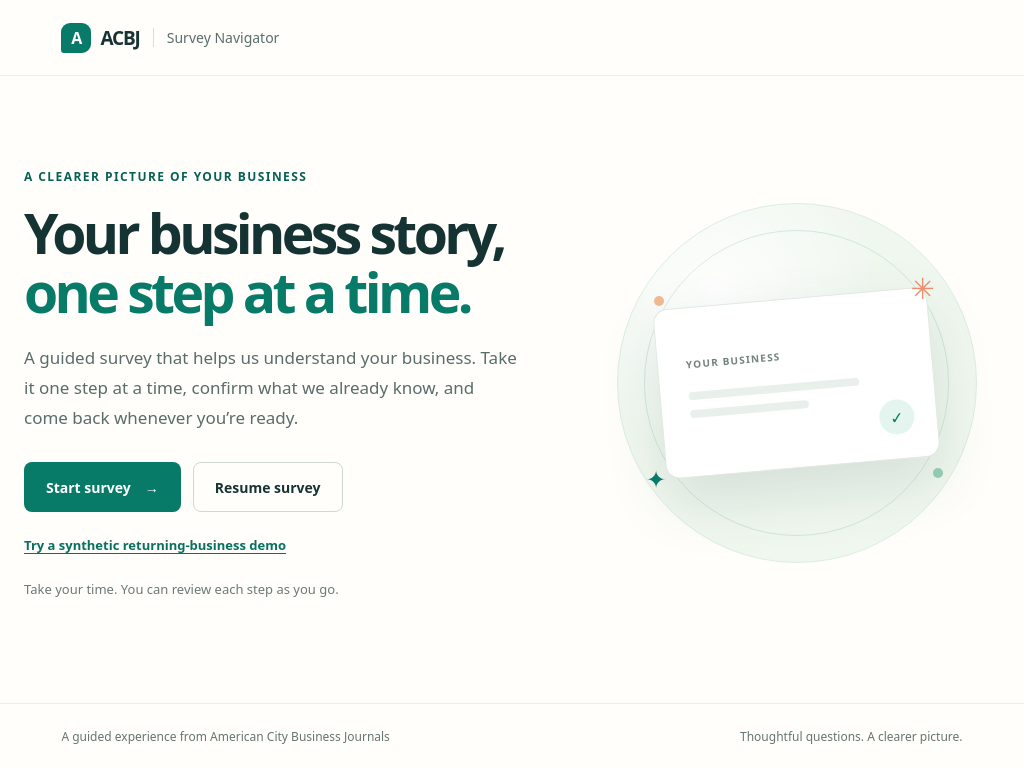
it: ACBJ Survey Navigator question flow › edits a review section and returns to review without losing other answers
Click the button "Resume survey" at (268, 487), box x1=193 y1=462 x2=343 y2=512
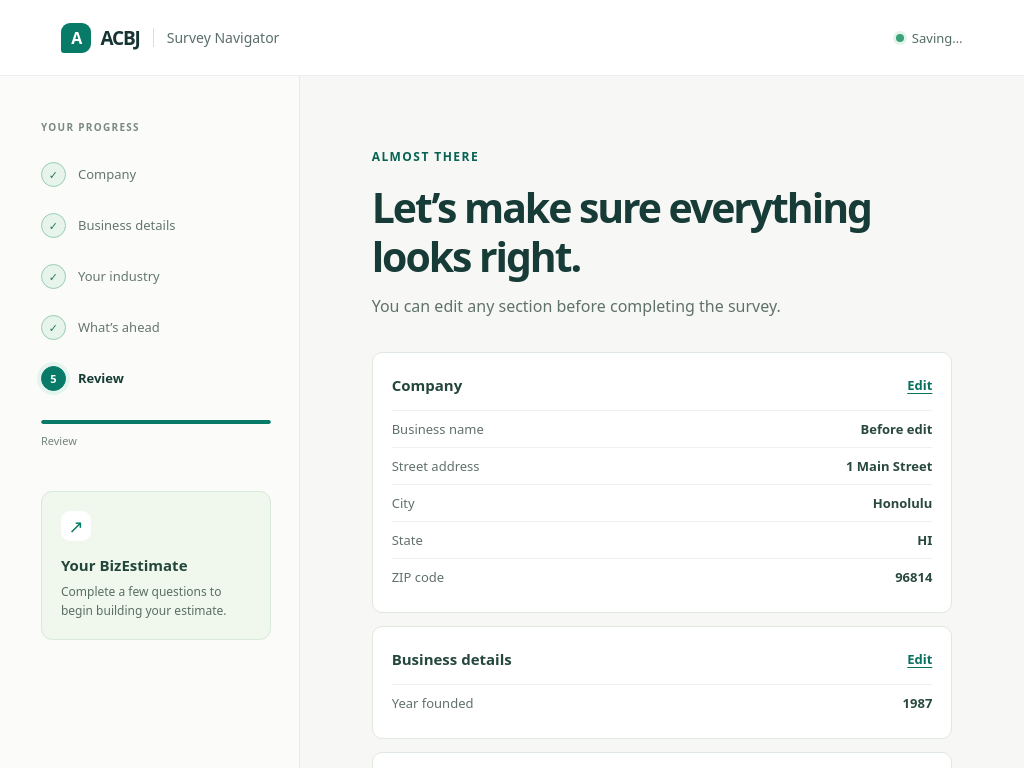
Check: the heading "Let’s make sure everything looks right." is shown, box x1=372 y1=183 x2=952 y2=281
Click the 1st button "Edit" at (920, 385), box x1=907 y1=370 x2=932 y2=400
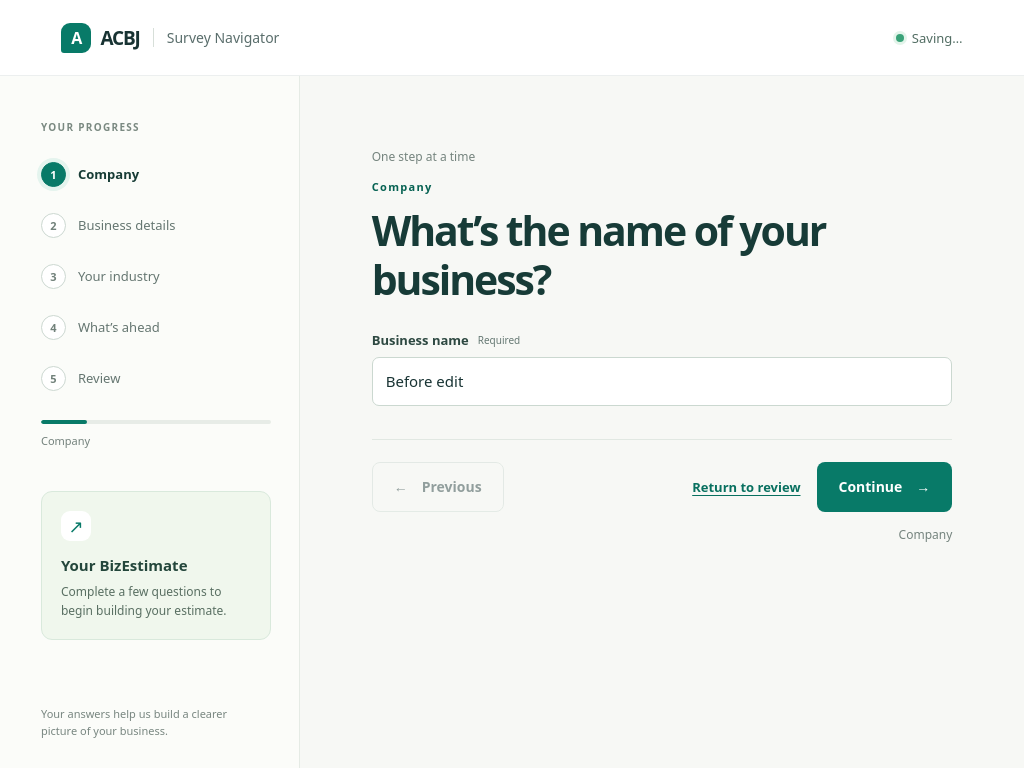
Replace the text in the field labelled "Business name Required" with "After edit" at (662, 382), box x1=372 y1=357 x2=952 y2=406
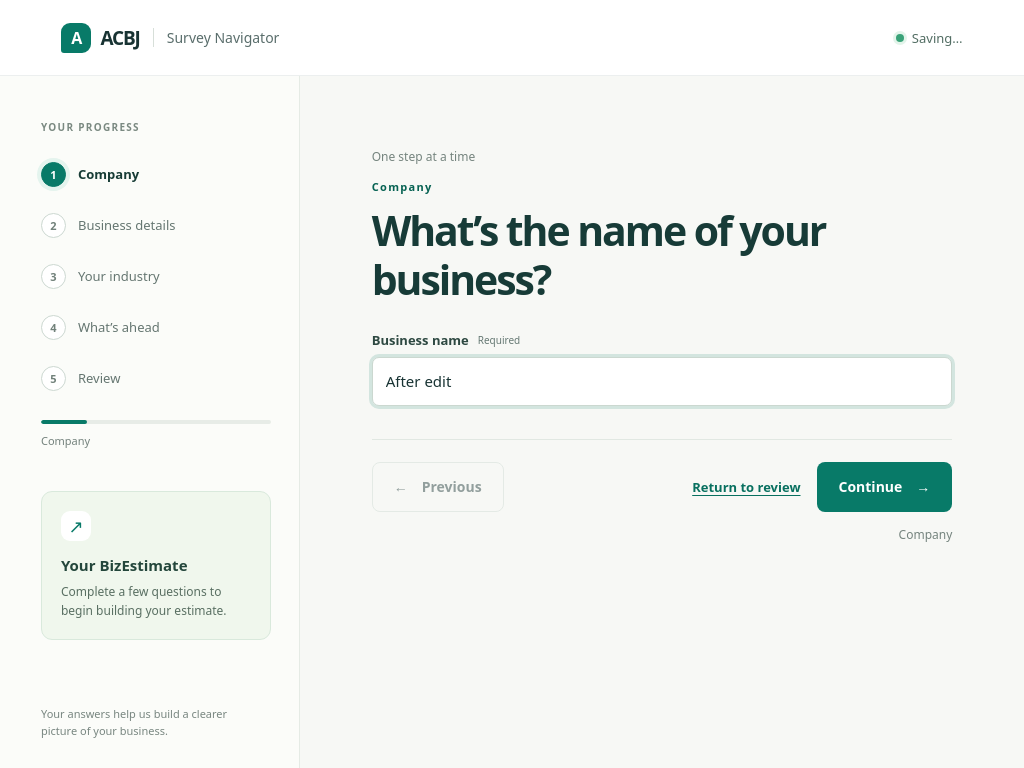
Click the button "Continue →" at (884, 487), box x1=816 y1=462 x2=952 y2=512
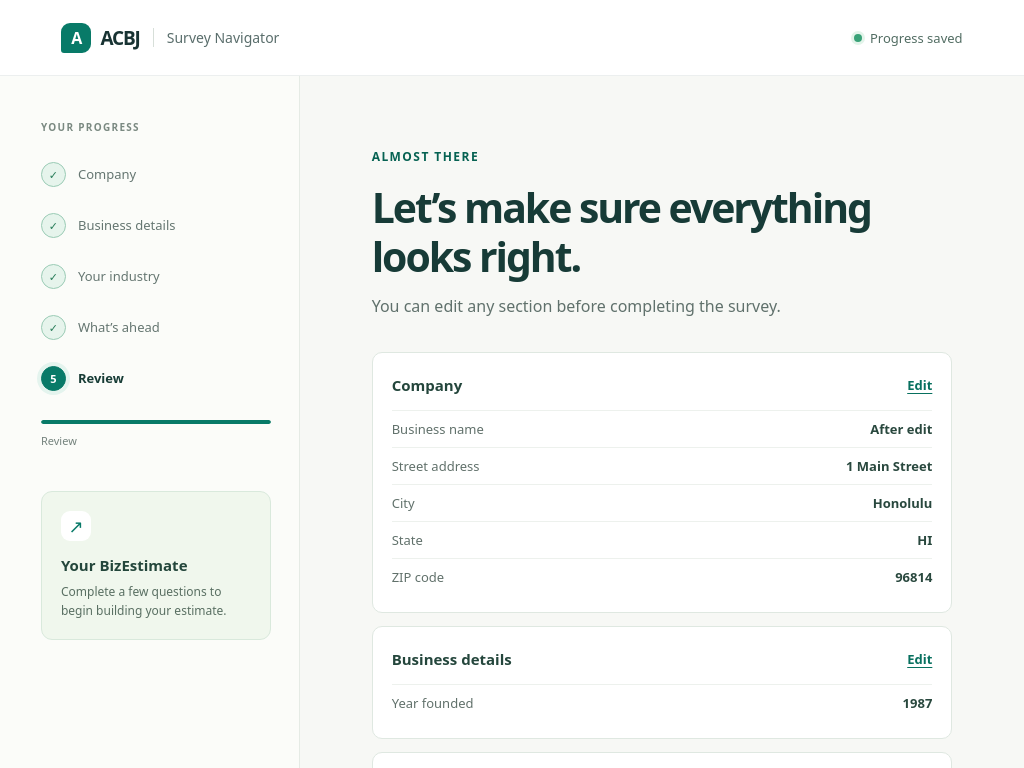
Check: the heading "Let’s make sure everything looks right." is shown, box x1=372 y1=183 x2=952 y2=281
Check: the text "After edit" is shown, box x1=870 y1=420 x2=932 y2=438
Check: the text "1 Main Street" is shown, box x1=846 y1=457 x2=932 y2=475
